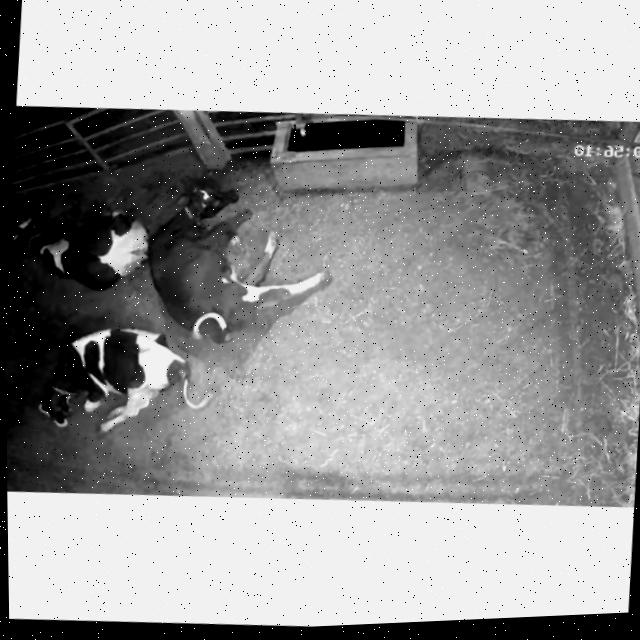lay: (146, 180, 330, 342), (38, 327, 213, 431), (10, 208, 149, 289)
